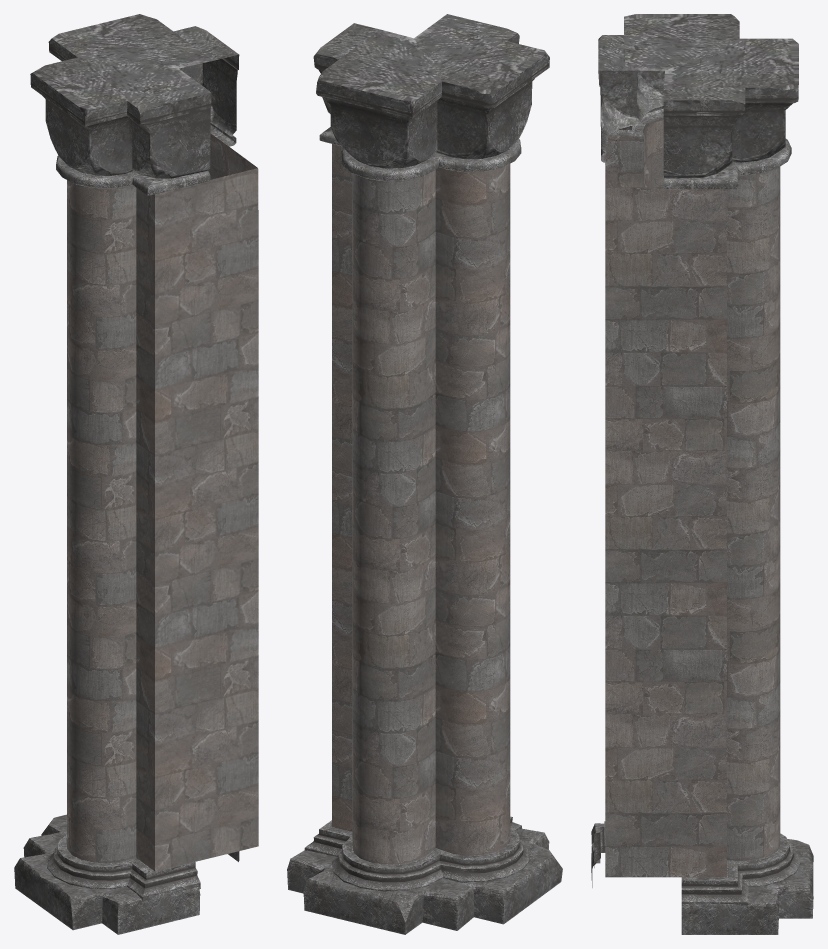
The picture shows the model from 3 angles, left to right: view 1: azimuth 30°, elevation 25°; view 2: azimuth 150°, elevation 25°; view 3: azimuth 270°, elevation 25°; orthographic projection.
Parts seen in each view (by area): view 1: SM_Dungeon_RoomCornerColumn_LOD0; view 2: SM_Dungeon_RoomCornerColumn_LOD0; view 3: SM_Dungeon_RoomCornerColumn_LOD0.
Boxes of the visible parts, box(x1,y1,x2,y2) form: SM_Dungeon_RoomCornerColumn_LOD0: box(14, 14, 258, 934); SM_Dungeon_RoomCornerColumn_LOD0: box(287, 14, 562, 934); SM_Dungeon_RoomCornerColumn_LOD0: box(591, 14, 813, 934).
Size of the model in its own units: 1.51 by 6 by 1.45.
Materials: 2 (2 with a texture image).
